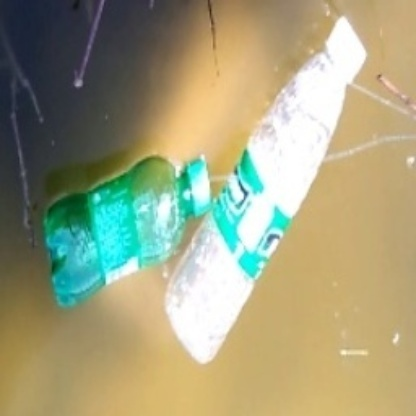bottle: (47, 148, 209, 310)
